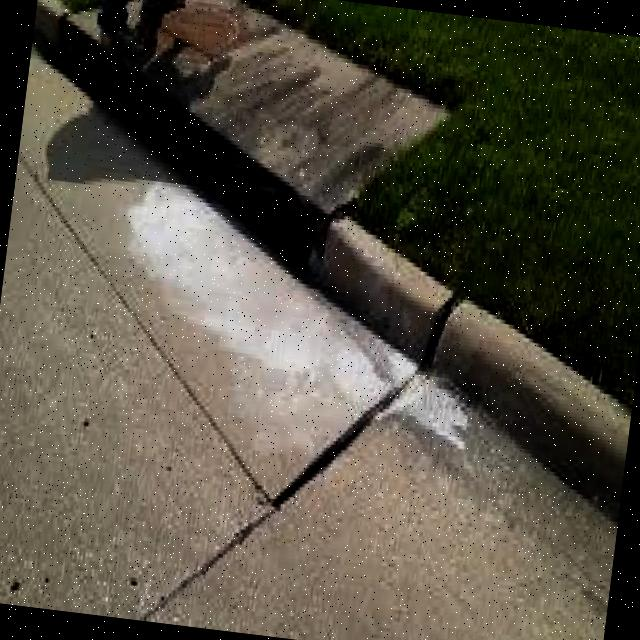curb: (32, 1, 630, 517)
